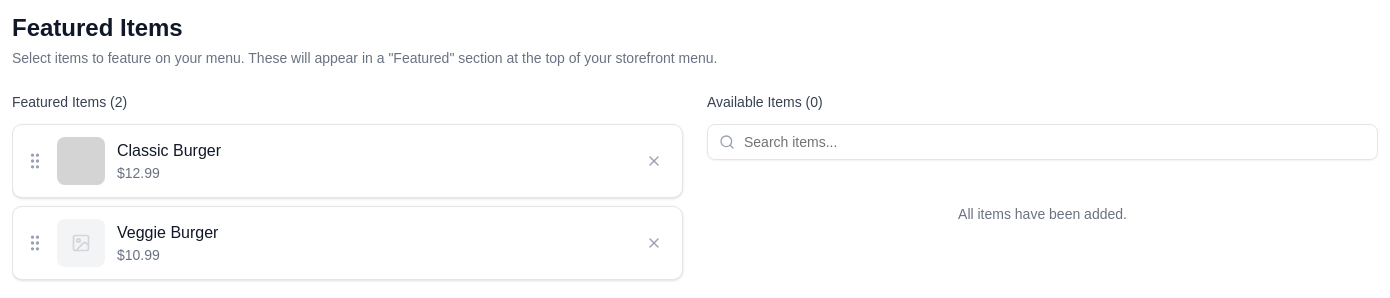
Test: FeaturedItemsClient › Remove Item Not In Available List › should handle removing item that is not in initial available list
The image size is (1390, 298).
Click the 2nd button: (654, 161) x1=638 y1=145 x2=670 y2=177
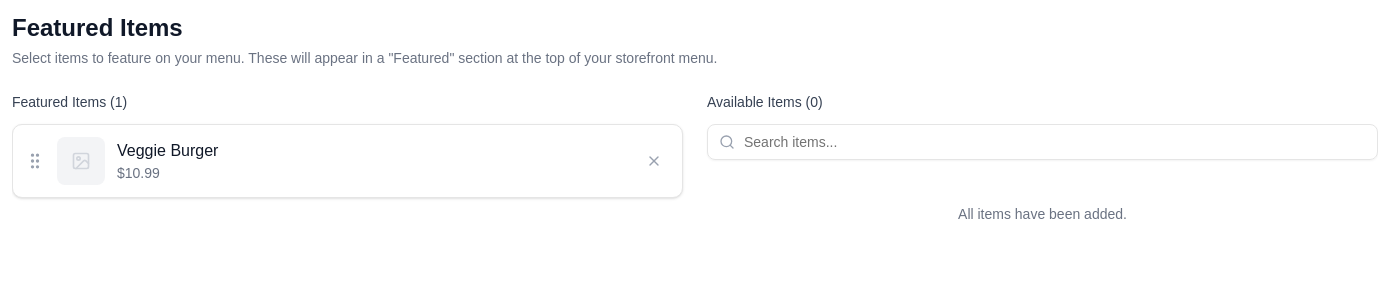
Expected: the heading "Available Items (0)" is shown, x1=707 y1=94 x2=823 y2=110
Expected: the heading "Featured Items (1)" is shown, x1=12 y1=94 x2=127 y2=110
